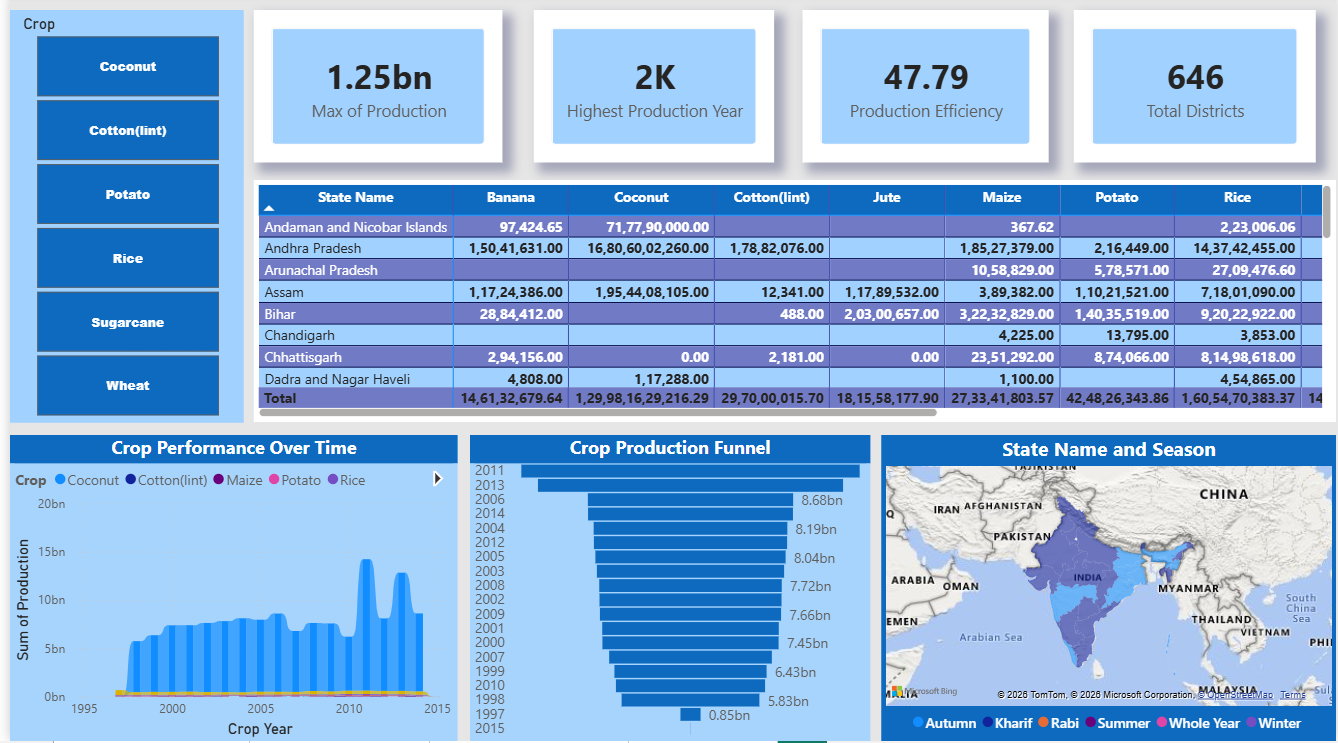

What the dashboard file says about the page in this screenshot:
{"tool":"powerbi","page":{"name":"Crop Analytics","canvas":[1280,720],"ordinal":3},"visuals":[{"type":"cardVisual","fields":{"Data":["Max(Crop Production.Production)"]},"box":[234.9,14.4,240.1,147.5],"z":0},{"type":"cardVisual","fields":{"Data":["Crop Production.Highest Production Year"]},"box":[505.1,14.4,232.3,147.5],"z":1000},{"type":"cardVisual","fields":{"Data":["Crop Production.Production Efficiency"]},"box":[764.8,14.4,237.5,147.5],"z":2000},{"type":"cardVisual","fields":{"Data":["Crop Production.Total Districts"]},"box":[1027.1,14.4,233.6,147.5],"z":3000},{"type":"filledMap","fields":{"Category":["Crop Production.State Name"],"Series":["Crop Production.Season"]},"box":[840.5,424.1,439.8,296.2],"z":4000},{"type":"funnel","title":"Crop Production Funnel","fields":{"Y":["Sum(Crop Production.Production)"],"Category":["Crop Production.Crop Year"]},"box":[443.7,424.1,386.3,296.2],"z":5000},{"type":"pivotTable","fields":{"Rows":["Crop Production.State Name"],"Columns":["Crop Production.Crop"],"Values":["Sum(Crop Production.Production)"]},"box":[234.9,178.8,1045.4,233.6],"z":6000},{"type":"ribbonChart","title":"Crop Performance Over Time","fields":{"Category":["Crop Production.Crop Year"],"Y":["Sum(Crop Production.Production)"],"Series":["Crop Production.Crop"]},"box":[0,424.1,432,296.2],"z":7000},{"type":"slicer","fields":{"Values":["Crop Production.Crop"]},"box":[0,14.4,225.8,398],"z":7001}]}

Visuals, with their boxes in screenshot pixels (x1, y1, x2, y2), scaled from the page's 1280x720 canvas onto the 1338x743 screenshot:
cardVisual - Max(Crop Production.Production): bbox=(246, 15, 497, 167)
cardVisual - Crop Production.Highest Production Year: bbox=(528, 15, 771, 167)
cardVisual - Crop Production.Production Efficiency: bbox=(799, 15, 1048, 167)
cardVisual - Crop Production.Total Districts: bbox=(1074, 15, 1318, 167)
filledMap - Crop Production.State Name x Crop Production.Season: bbox=(879, 438, 1337, 742)
"Crop Production Funnel" funnel: bbox=(464, 438, 868, 742)
pivotTable - Crop Production.State Name x Crop Production.Crop: bbox=(246, 185, 1337, 426)
"Crop Performance Over Time" ribbonChart: bbox=(0, 438, 452, 742)
slicer - Crop Production.Crop: bbox=(0, 15, 236, 426)
